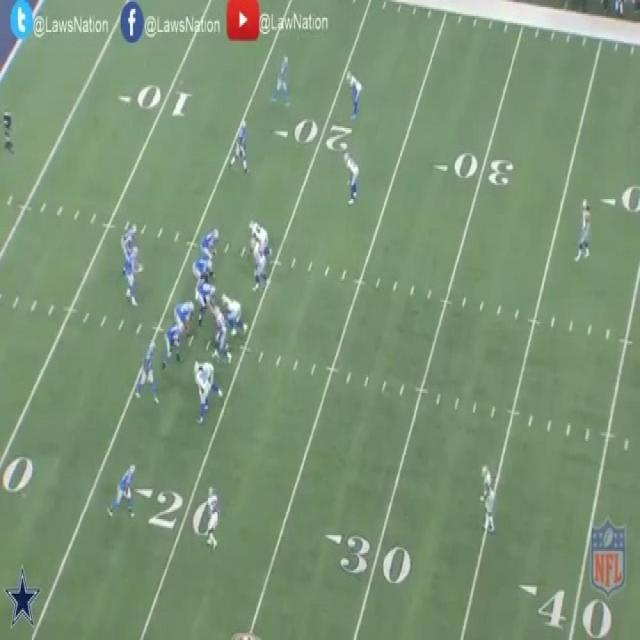center: (197, 283, 214, 309)
db: (481, 464, 496, 532), (578, 194, 593, 258), (346, 71, 366, 119), (343, 156, 358, 208), (207, 487, 219, 549)
lb: (213, 306, 230, 362), (192, 364, 208, 421)
qb: (130, 247, 140, 304)
